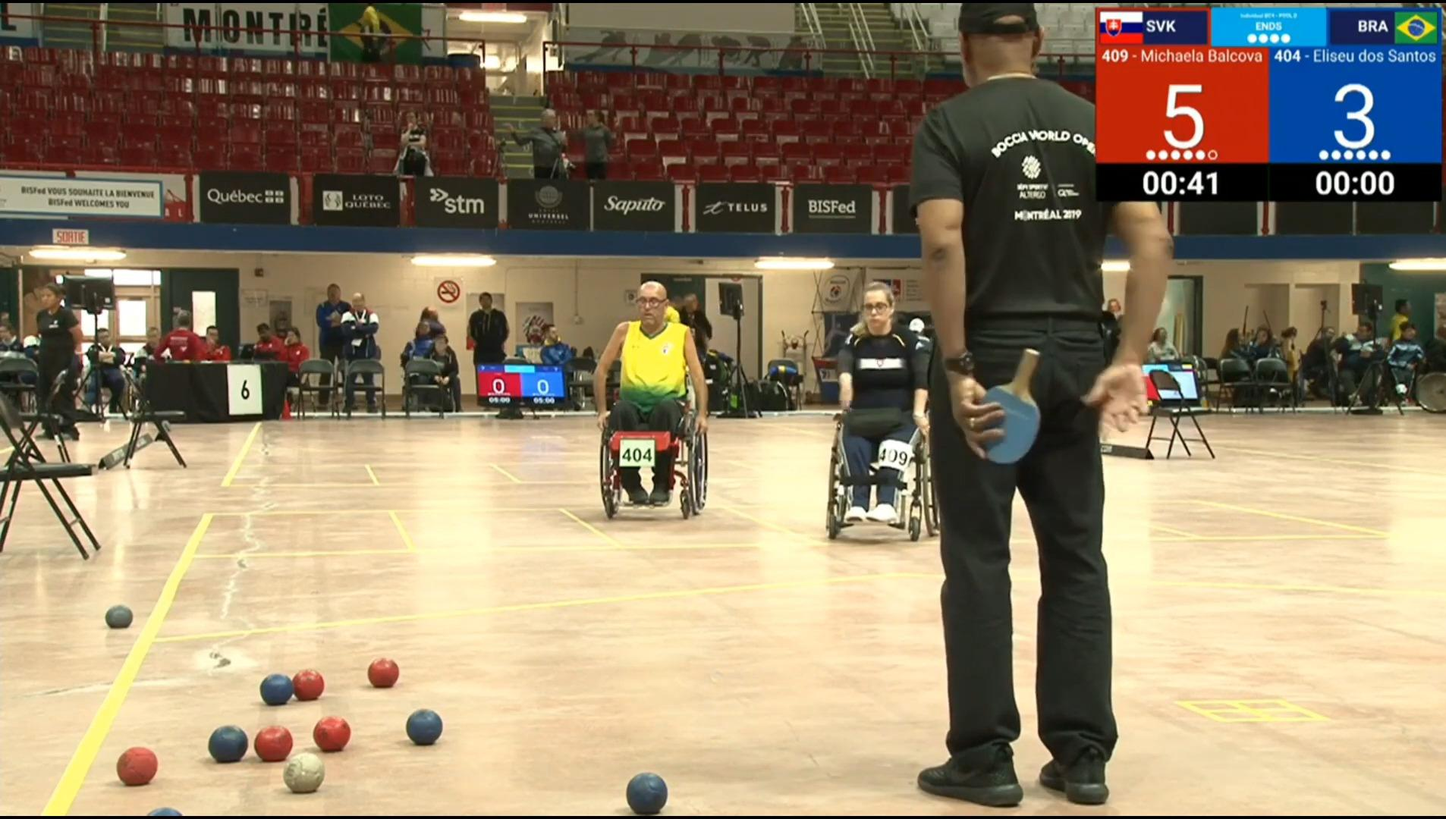blue_ball: (625, 769, 669, 816), (405, 708, 444, 748), (209, 725, 249, 763), (260, 674, 296, 707)
red_ball: (116, 747, 160, 788), (312, 715, 353, 754), (253, 726, 293, 762), (365, 655, 403, 690), (292, 671, 325, 702)
white_ball: (286, 753, 326, 798)
